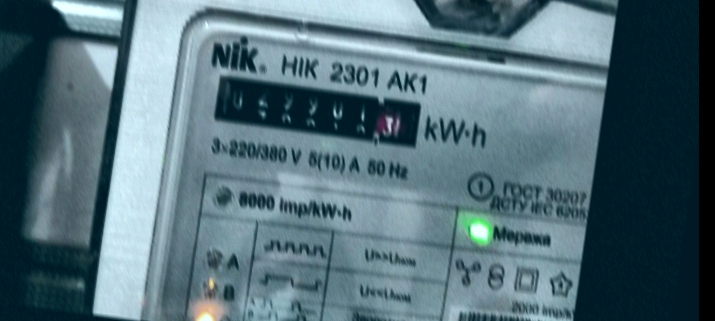0: (329, 95, 348, 122), (229, 87, 247, 111)
1: (356, 99, 372, 125)
2: (255, 86, 273, 110)
3: (380, 115, 398, 139)
9: (306, 94, 321, 119), (281, 90, 296, 112)
screen: (205, 68, 432, 160)
